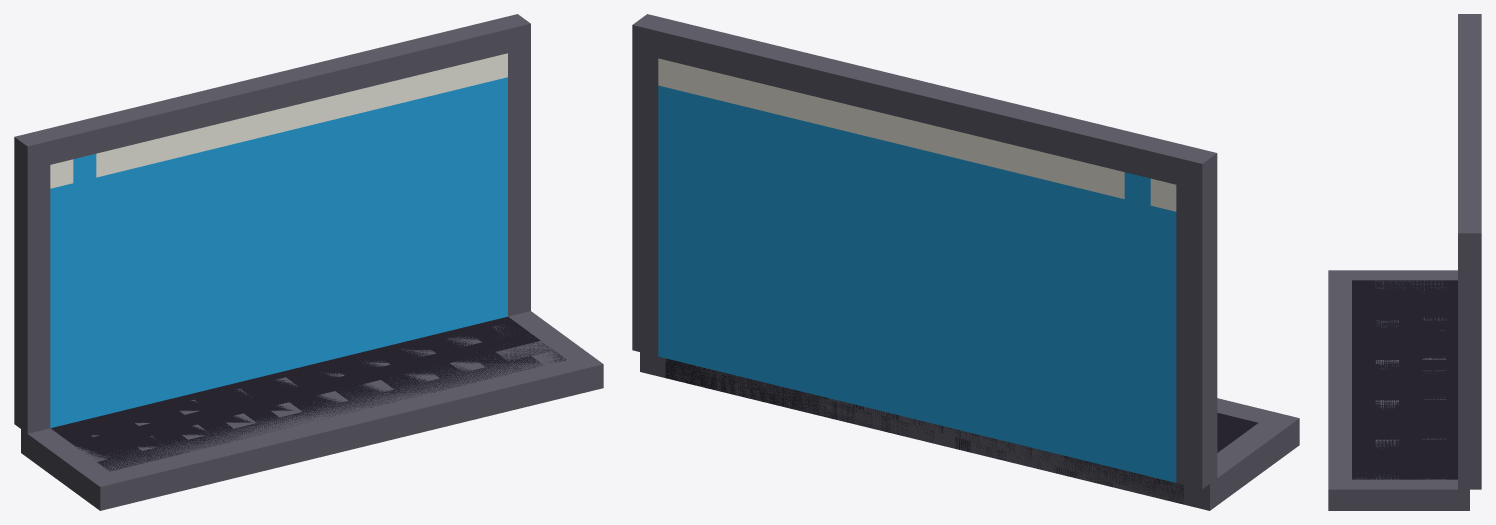
The model's file is laptop.glb.
3 views of the same model, side by side, from view 1: azimuth 30°, elevation 25°; view 2: azimuth 150°, elevation 25°; view 3: azimuth 270°, elevation 25° (orthographic). The views are drawn at different scales.
Parts seen in each view (by area): view 1: screen_display, keyboard, screen, jey_back, top (2); view 2: screen_display, screen, keyboard, jey_back; view 3: keyboard, screen, top (2).
Part boxes in pixels (x1,y1,x2,y2): screen_display: (50, 53, 507, 428); keyboard: (21, 311, 603, 510); screen: (14, 14, 530, 433); jey_back: (29, 311, 601, 486); top (2): (76, 325, 565, 461); screen_display: (658, 58, 1176, 482); screen: (632, 14, 1217, 489); keyboard: (640, 352, 1299, 510); jey_back: (640, 354, 1296, 510); keyboard: (1328, 270, 1469, 510); screen: (1458, 14, 1481, 489); top (2): (1352, 280, 1446, 479).
Bounding box in the file's own units: 22 × 13 × 6.5.
6 materials, 6 textured.
